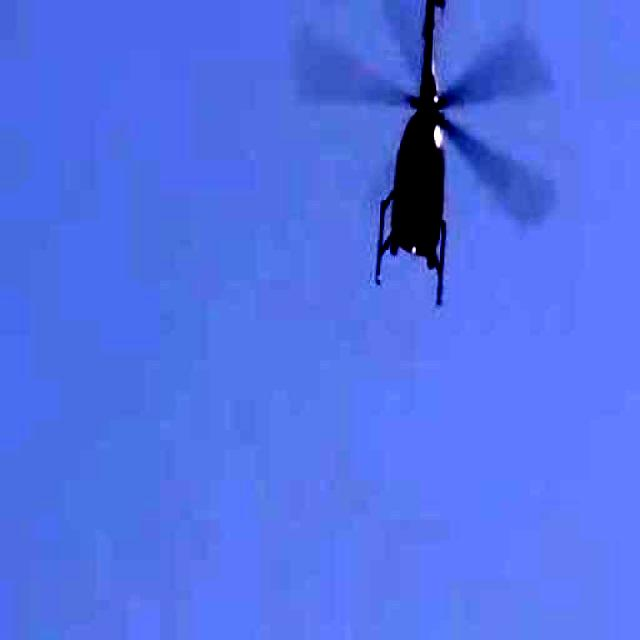drone: (266, 0, 580, 354)
